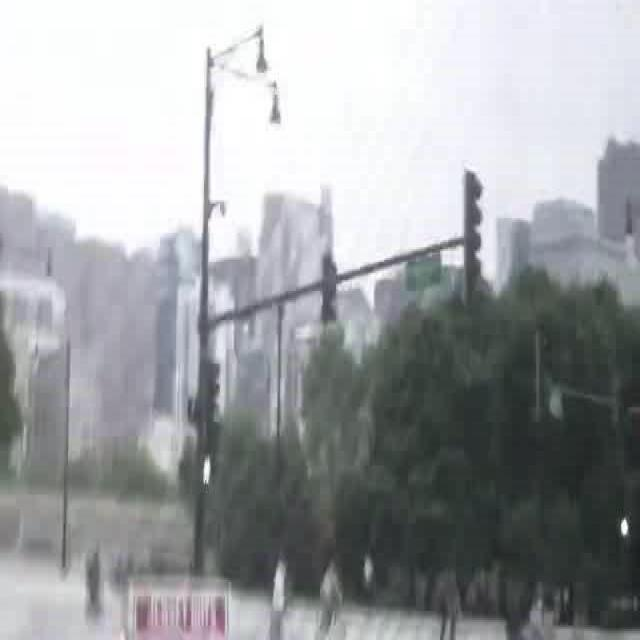other: (131, 593, 228, 628), (610, 500, 630, 552)
